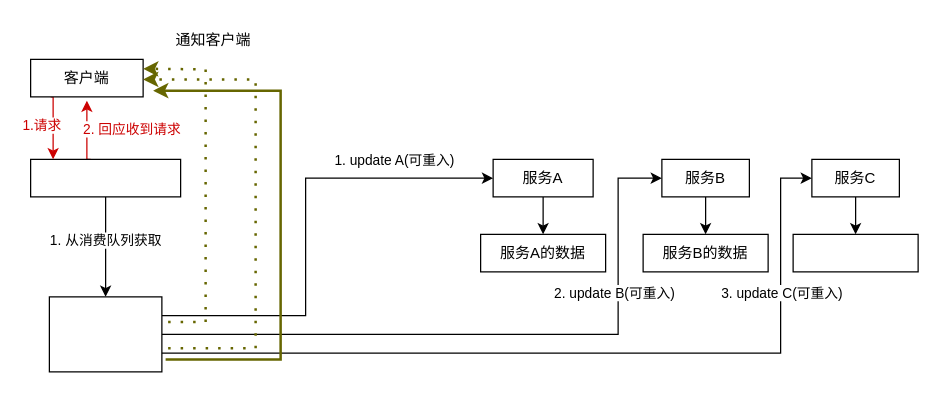
This 940x394 diagram has some shape labels left out. Each missing label, with the centre of its shape:
"服务C的数据" belongs at (x=855, y=252).
"消息队列" belongs at (x=105, y=177).
"消息队列消费者" belongs at (x=105, y=334).
